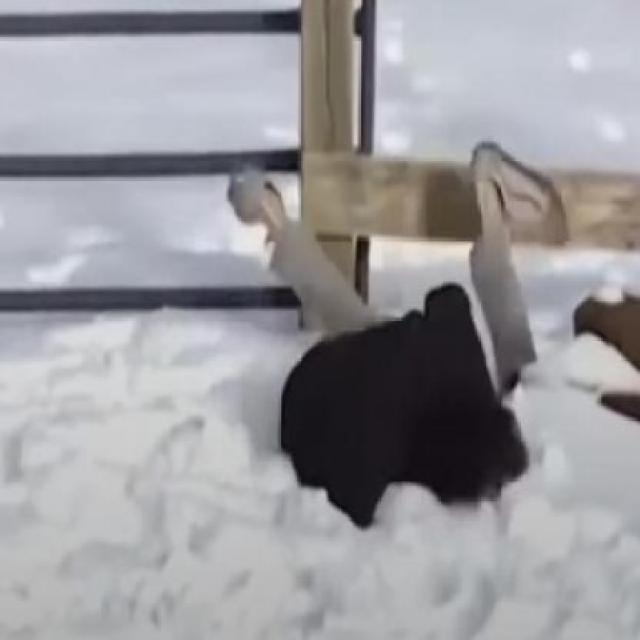fall: (222, 140, 562, 525)
